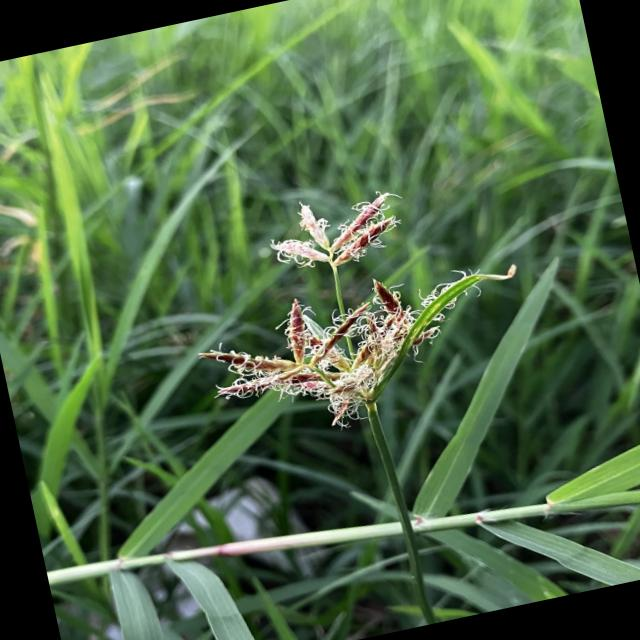cyperus: (167, 160, 522, 453)
